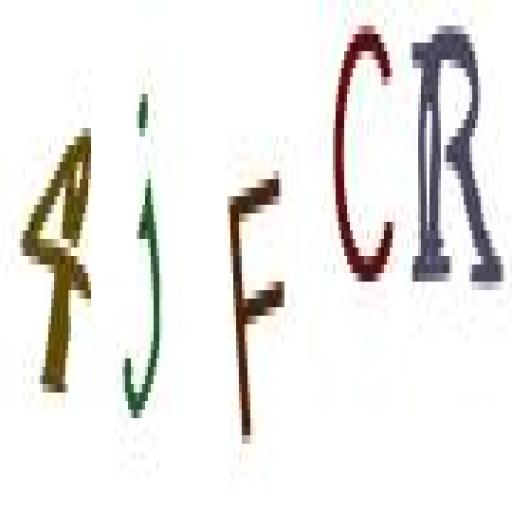4: (12, 111, 102, 421)
C: (332, 6, 409, 304)
F: (226, 159, 291, 466)
R: (414, 7, 512, 305)
j: (113, 63, 168, 454)
